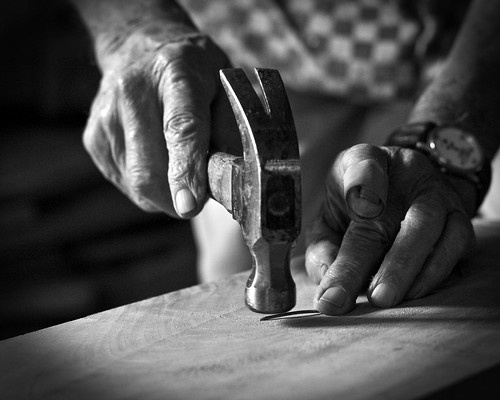hammer: (208, 65, 304, 324)
